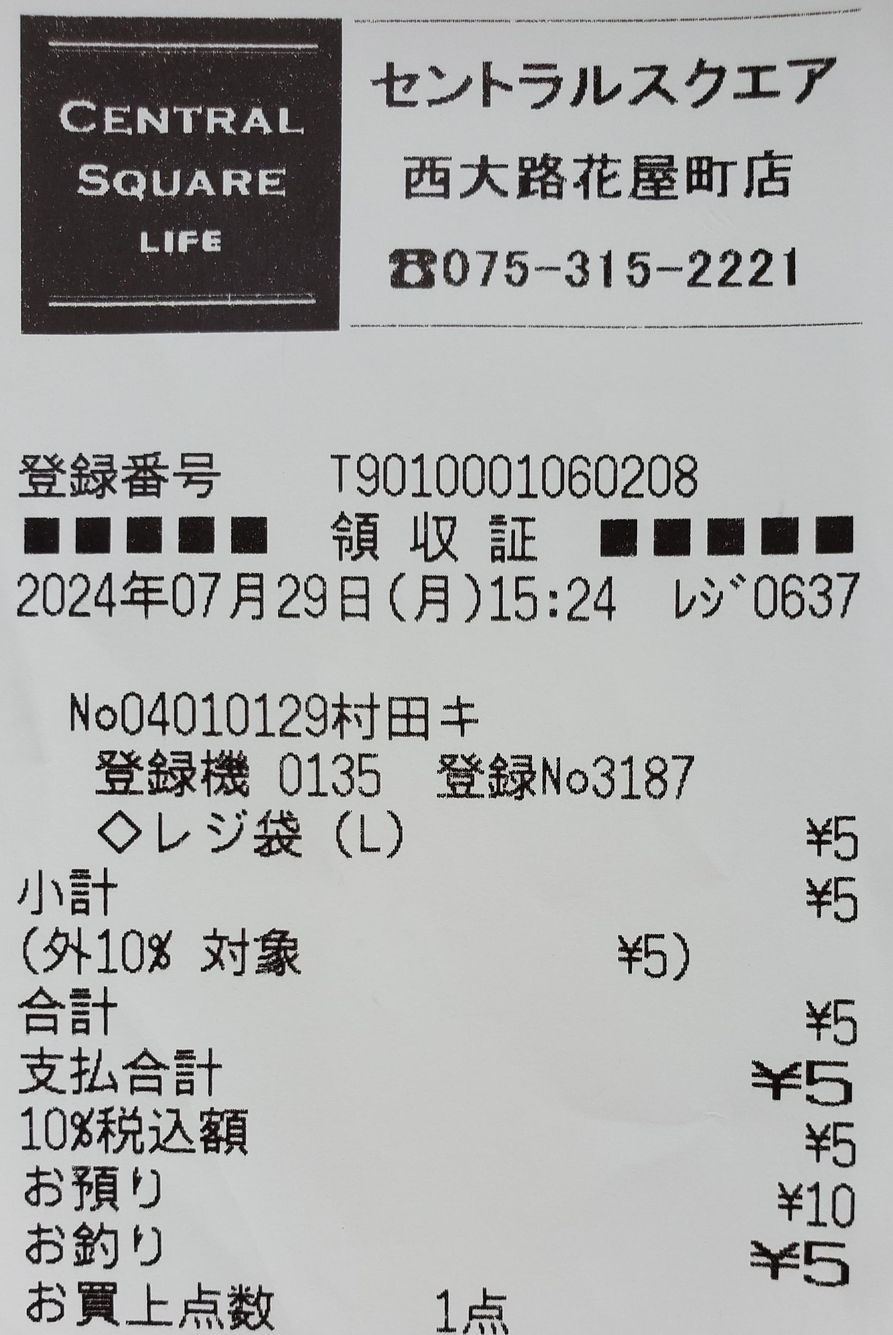TEL: (437, 238, 825, 291)
date: (0, 554, 390, 626)
total: (803, 1052, 858, 1112)
